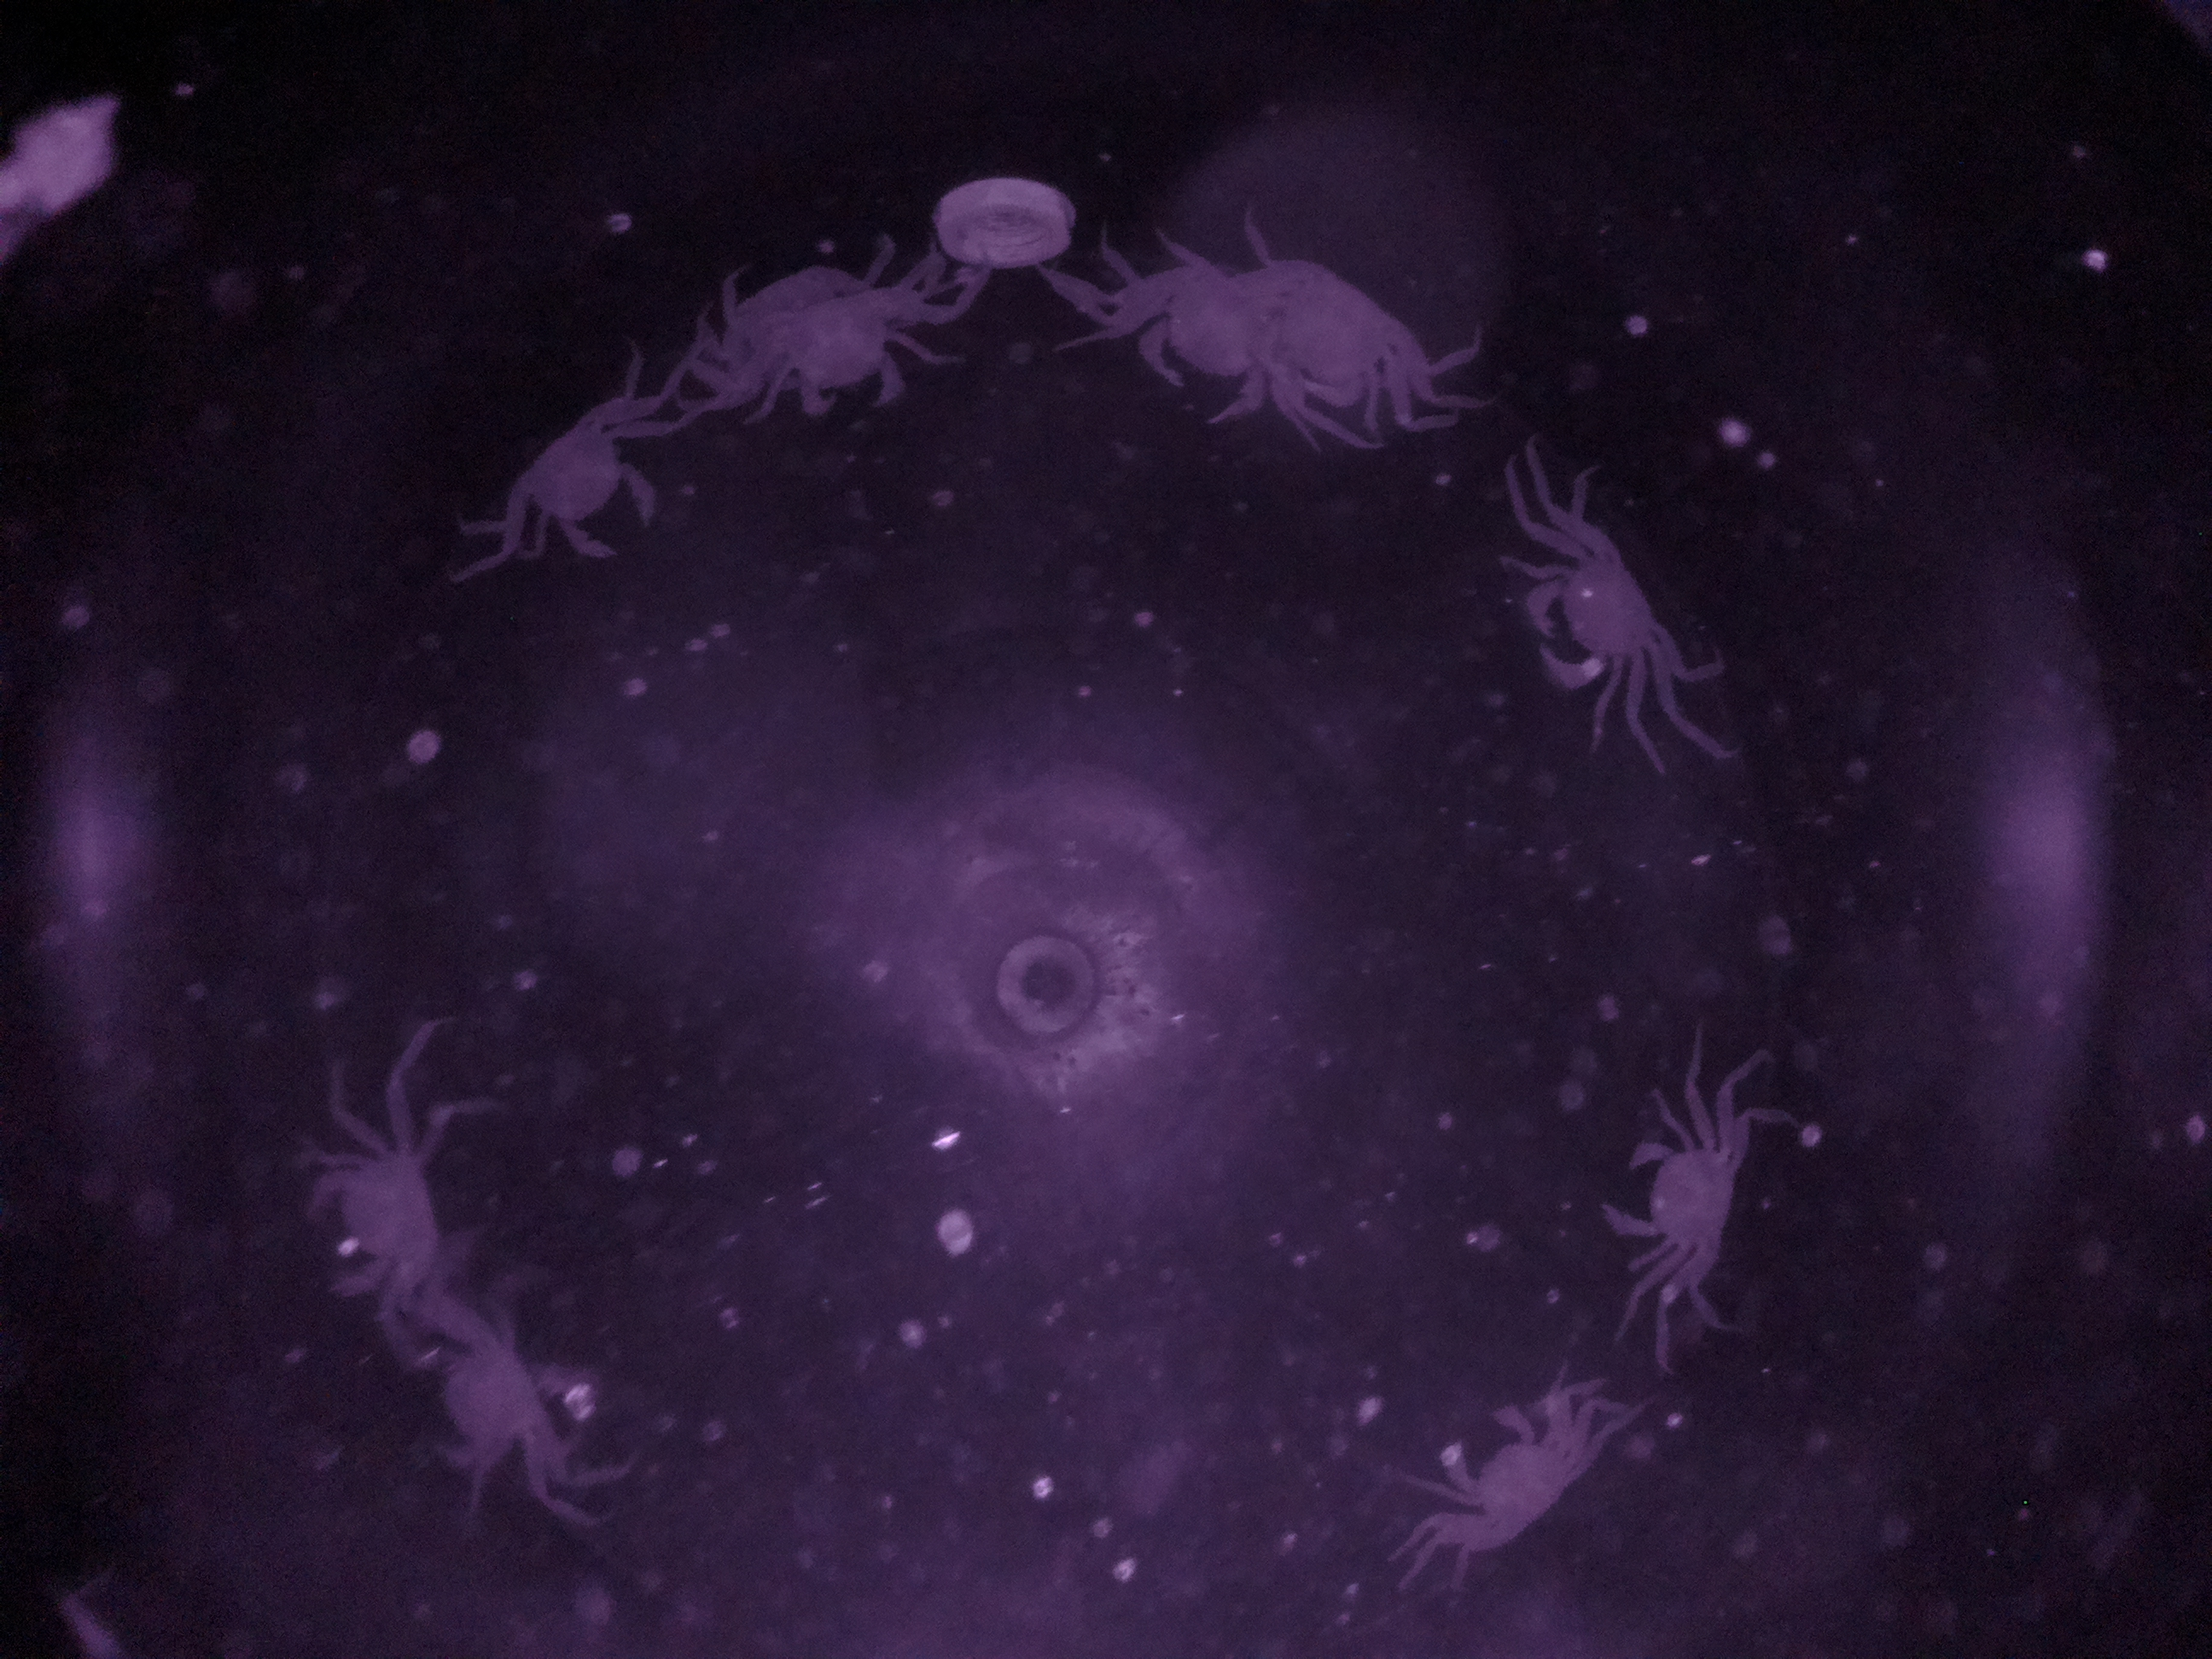Crab: (1406, 1373, 1597, 1575), (1588, 1093, 1775, 1297), (1503, 509, 1679, 720), (505, 385, 683, 580)
